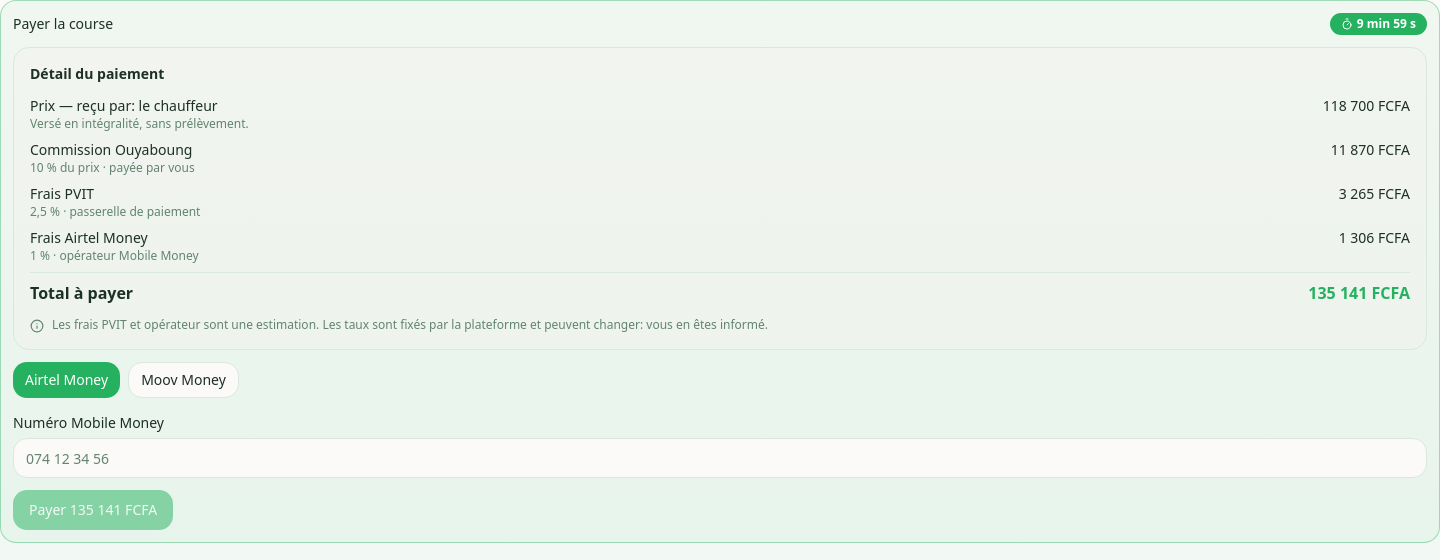
it: TransportPaymentSection › recalculates when the farmer switches to Moov (the operator fee follows its own rate)
Click the button "Moov Money" at (183, 380), box [128,362,239,398]
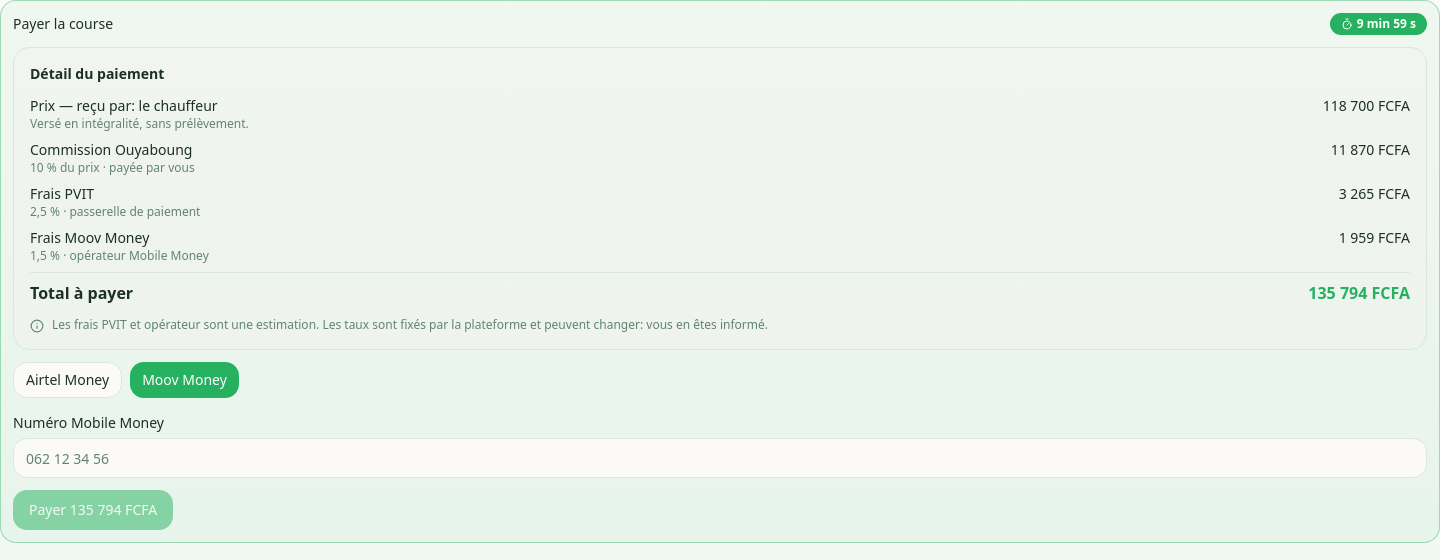
expect the element with test id "fee-operator" shows "Moov Money": met, box [30,228,149,247]
expect the element with test id "fee-operator" shows "1,5 %": met, box [30,247,209,264]
expect the button "Payer 135 794 FCFA" is shown: met, box [13,490,173,530]
